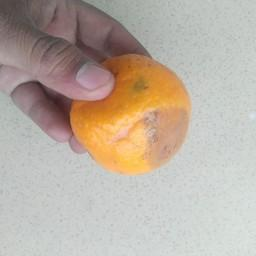Bad_orange: (68, 56, 194, 177)
